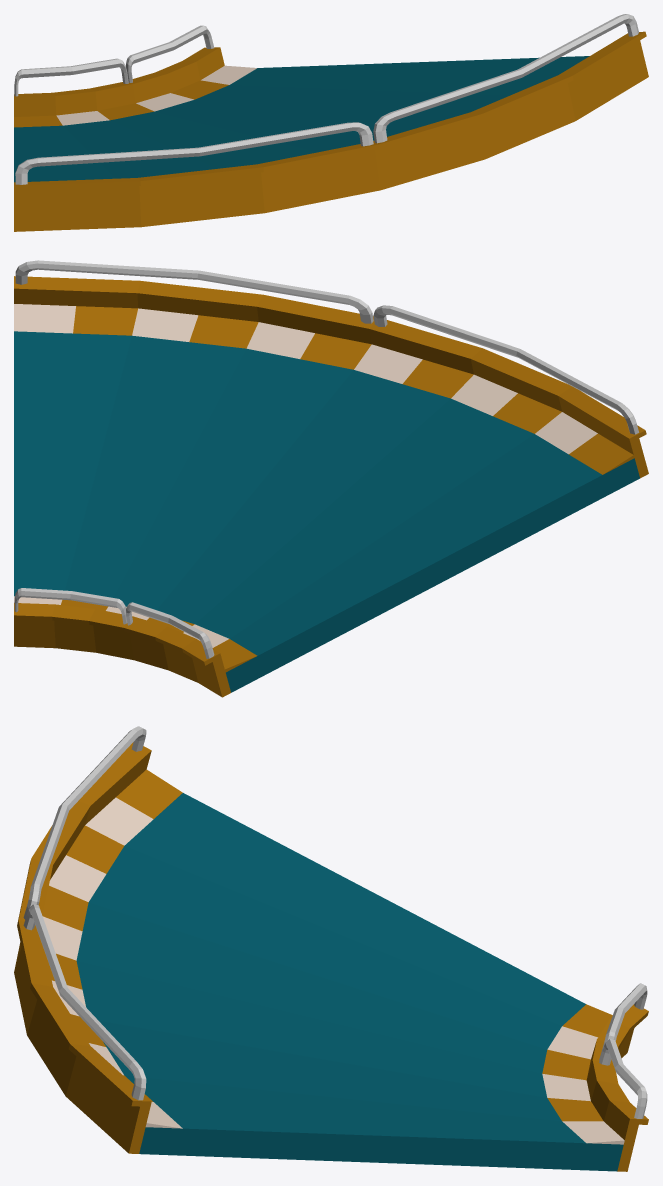
The model's file is bankedRight-60-15_s.FBX.
The picture shows the model from 3 angles, top to bottom: view 1: azimuth 30°, elevation 25°; view 2: azimuth 150°, elevation 25°; view 3: azimuth 270°, elevation 25°; orthographic projection. The views are drawn at different scales.
Parts seen in each view (by area): view 1: wall_l, bankedRight-60-15_s, wall_r, curbs_r; view 2: bankedRight-60-15_s, wall_l, curbs_l, wall_r, curbs_r; view 3: bankedRight-60-15_s, wall_l, curbs_l, curbs_r, wall_r.
Boxes of the visible parts, x1,y1,x2,y2 form: wall_l: [14, 14, 648, 231]; bankedRight-60-15_s: [14, 56, 589, 182]; wall_r: [14, 25, 224, 116]; curbs_r: [14, 65, 256, 127]; bankedRight-60-15_s: [14, 331, 639, 692]; wall_l: [14, 260, 648, 478]; curbs_l: [14, 304, 634, 474]; wall_r: [14, 588, 230, 697]; curbs_r: [14, 596, 257, 672]; bankedRight-60-15_s: [76, 793, 623, 1171]; wall_l: [14, 726, 151, 1153]; curbs_l: [42, 769, 182, 1128]; curbs_r: [542, 1004, 624, 1144]; wall_r: [586, 983, 648, 1171].
Size of what is drawn, in the model's own units: 288 by 80.3 by 213.
